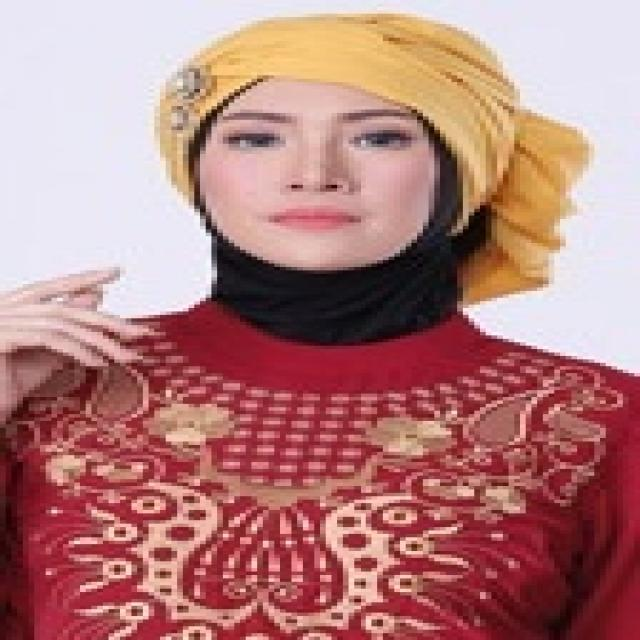head: (143, 29, 580, 281)
